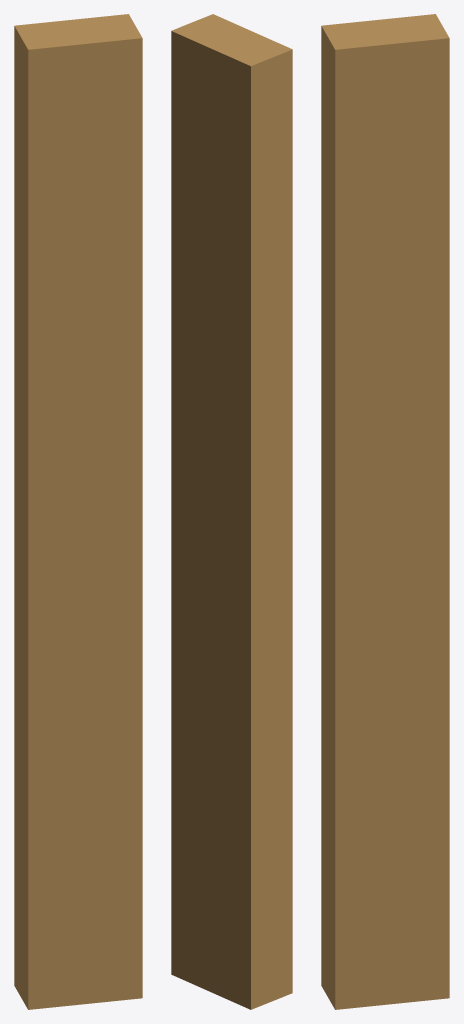
3 views of the same model, side by side, from view 1: azimuth 90°, elevation 25°; view 2: azimuth 210°, elevation 25°; view 3: azimuth 270°, elevation 25° (orthographic).
Parts seen in each view (by area): view 1: GAP-11-LOW-1; view 2: GAP-11-LOW-1; view 3: GAP-11-LOW-1.
Part boxes in pixels (bbox=[...]): GAP-11-LOW-1: bbox=[14, 14, 142, 1009]; GAP-11-LOW-1: bbox=[171, 14, 292, 1009]; GAP-11-LOW-1: bbox=[321, 14, 449, 1009].
Size of the model in its own units: 0.0649 by 0.81 by 0.0981.
